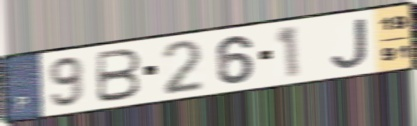1: (273, 23, 302, 81)
2: (159, 39, 205, 98)
6: (214, 33, 257, 85)
9: (45, 53, 86, 108)
B: (95, 47, 144, 105)
J: (329, 16, 370, 70)
